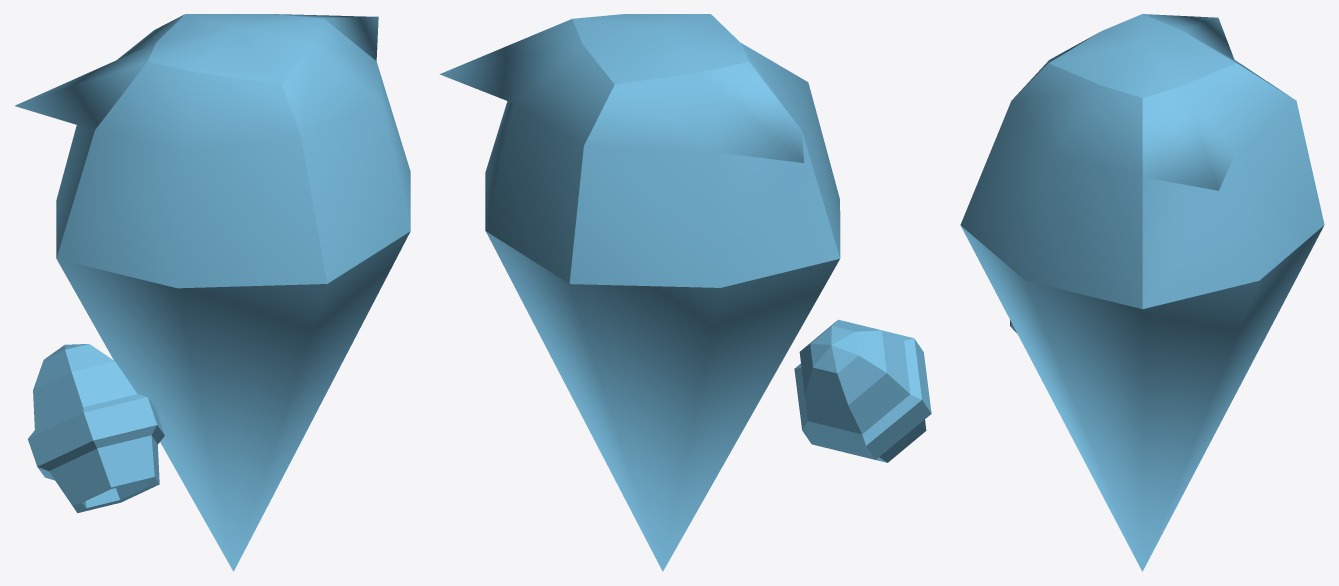
The model's file is Character.fbx.
The picture shows the model from 3 angles, left to right: view 1: azimuth 30°, elevation 25°; view 2: azimuth 150°, elevation 25°; view 3: azimuth 270°, elevation 25°; orthographic projection. The views are drawn at different scales.
Visible parts, largest first — view 1: Body, Blaster; view 2: Body, Blaster; view 3: Body.
Part boxes in pixels (box(x1,y1,x2,y2)): Body: box(15, 14, 410, 571); Blaster: box(28, 344, 164, 513); Body: box(439, 14, 840, 571); Blaster: box(794, 319, 931, 462); Body: box(960, 14, 1324, 571).
Bounding box in the file's own units: 14.93 × 18.64 × 11.61.
